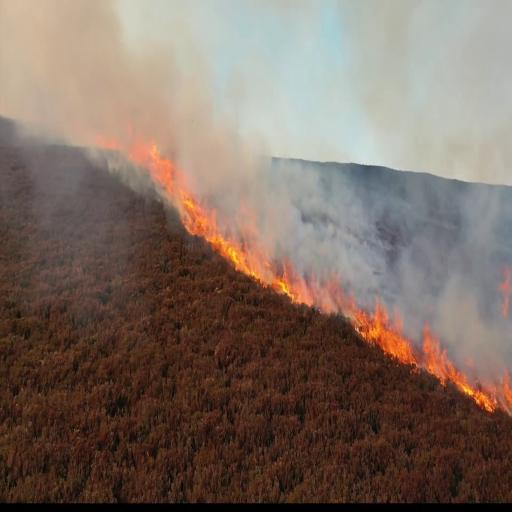fire: (422, 321, 498, 417), (180, 190, 258, 281), (354, 298, 418, 370), (278, 257, 303, 309), (501, 366, 512, 420)
smoke: (421, 134, 512, 373), (291, 142, 389, 246)
